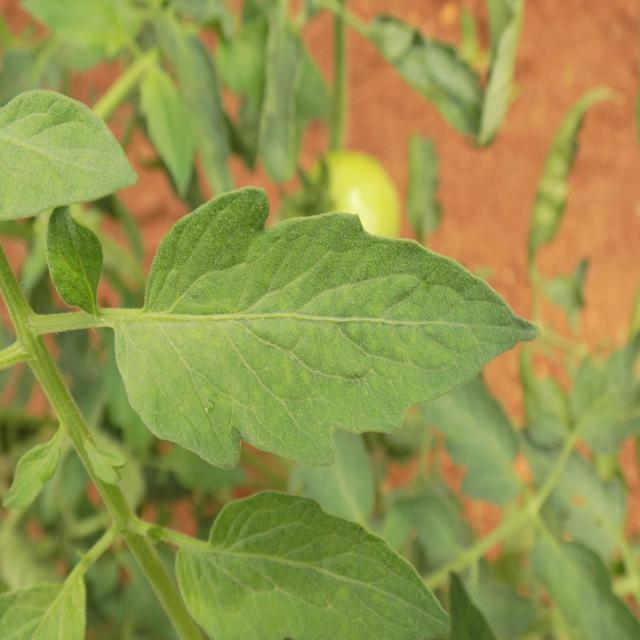tomato_healthy: (117, 183, 538, 462), (160, 487, 457, 640)
